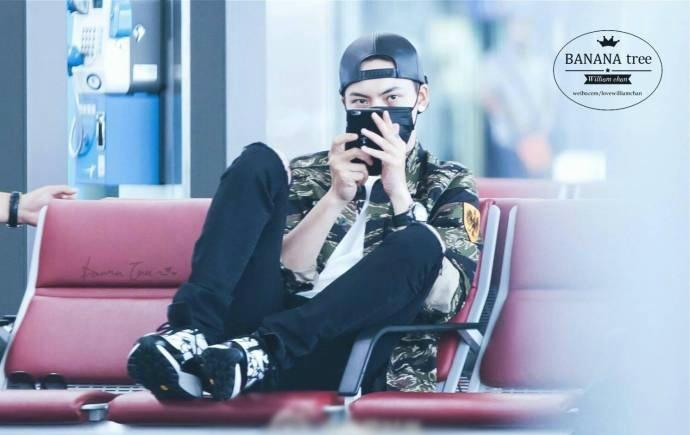face_mask: (344, 64, 412, 150)
